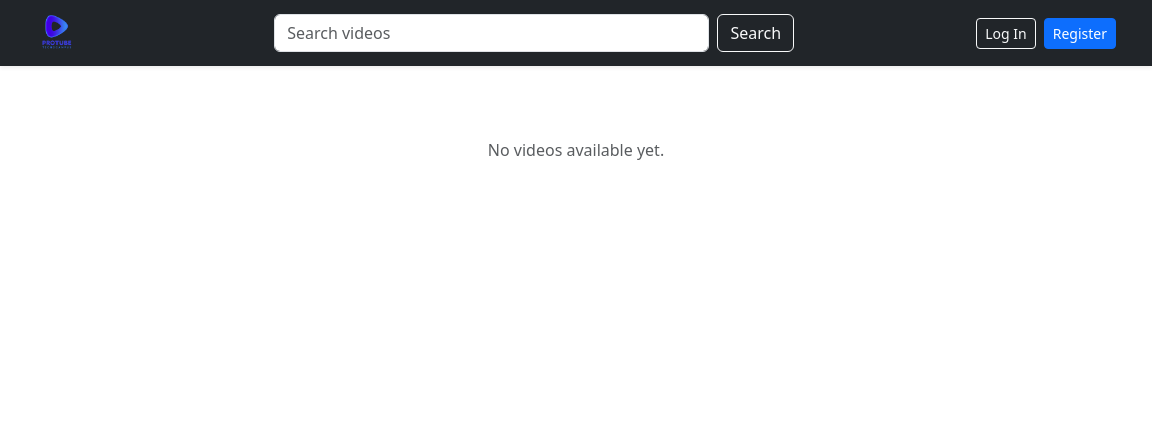
Test: App › searches from the header and shows the results page
Expected: the text "No videos available yet." is shown, [488,139,664,161]
Type "cat" into the search field labelled "Search videos".
click(492, 33); type("cat")  # box [274,14,710,52]
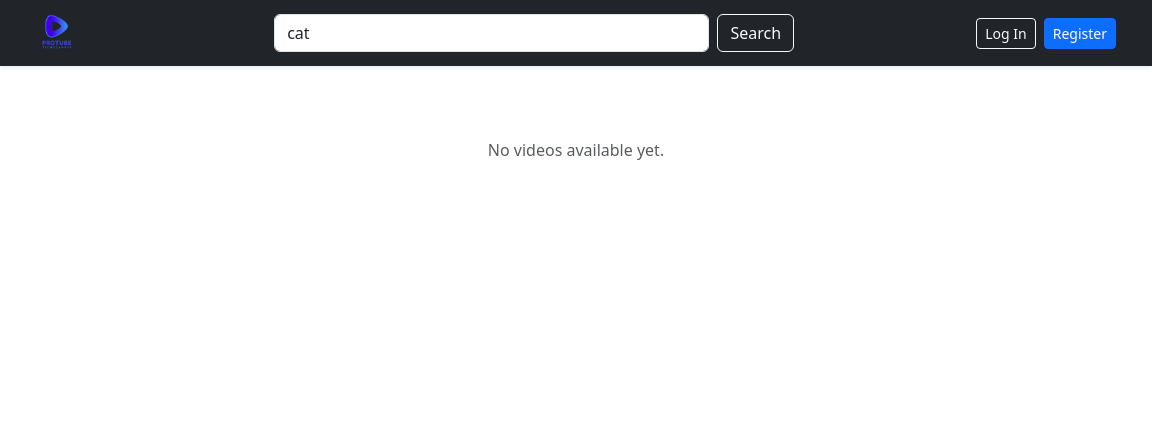
Click the button "Search".
click(756, 33)  # box [718,14,794,52]
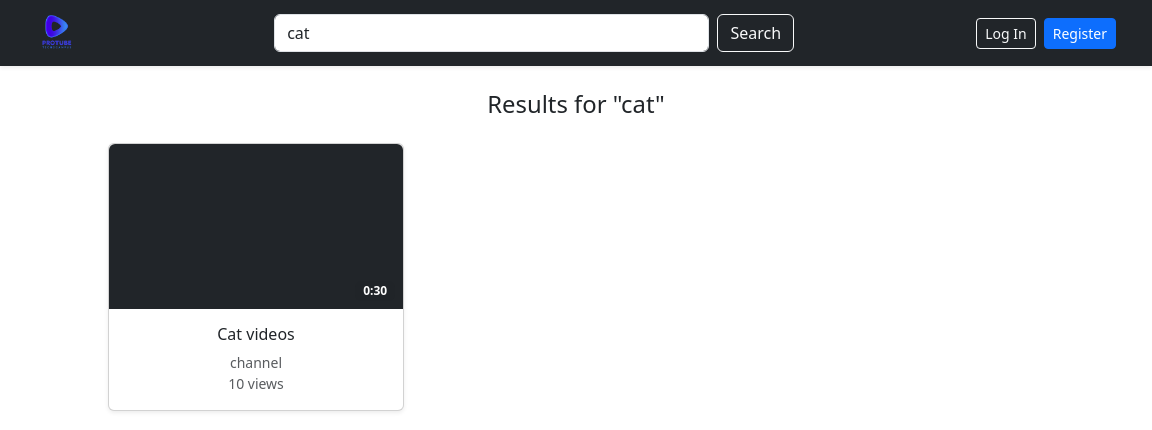
Expected: the heading "Results for \"cat\"" is shown, [487,88,665,120]
Expected: the heading "Cat videos" is shown, [217,323,295,345]
